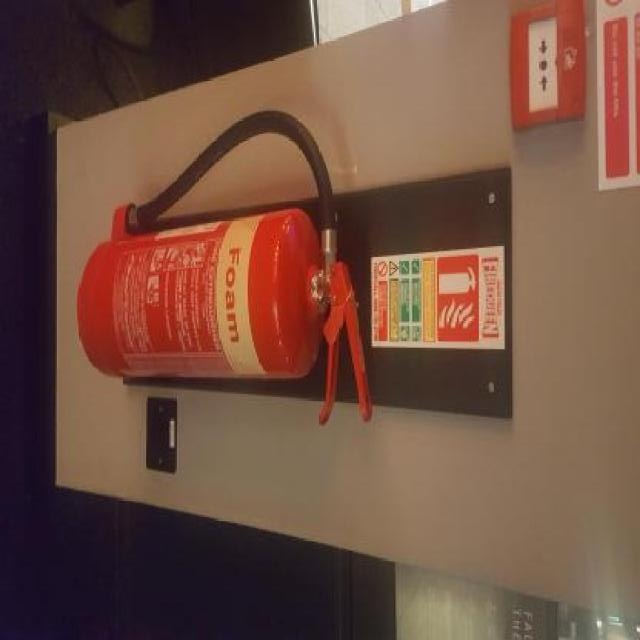fire extinguisher: (75, 105, 379, 439)
